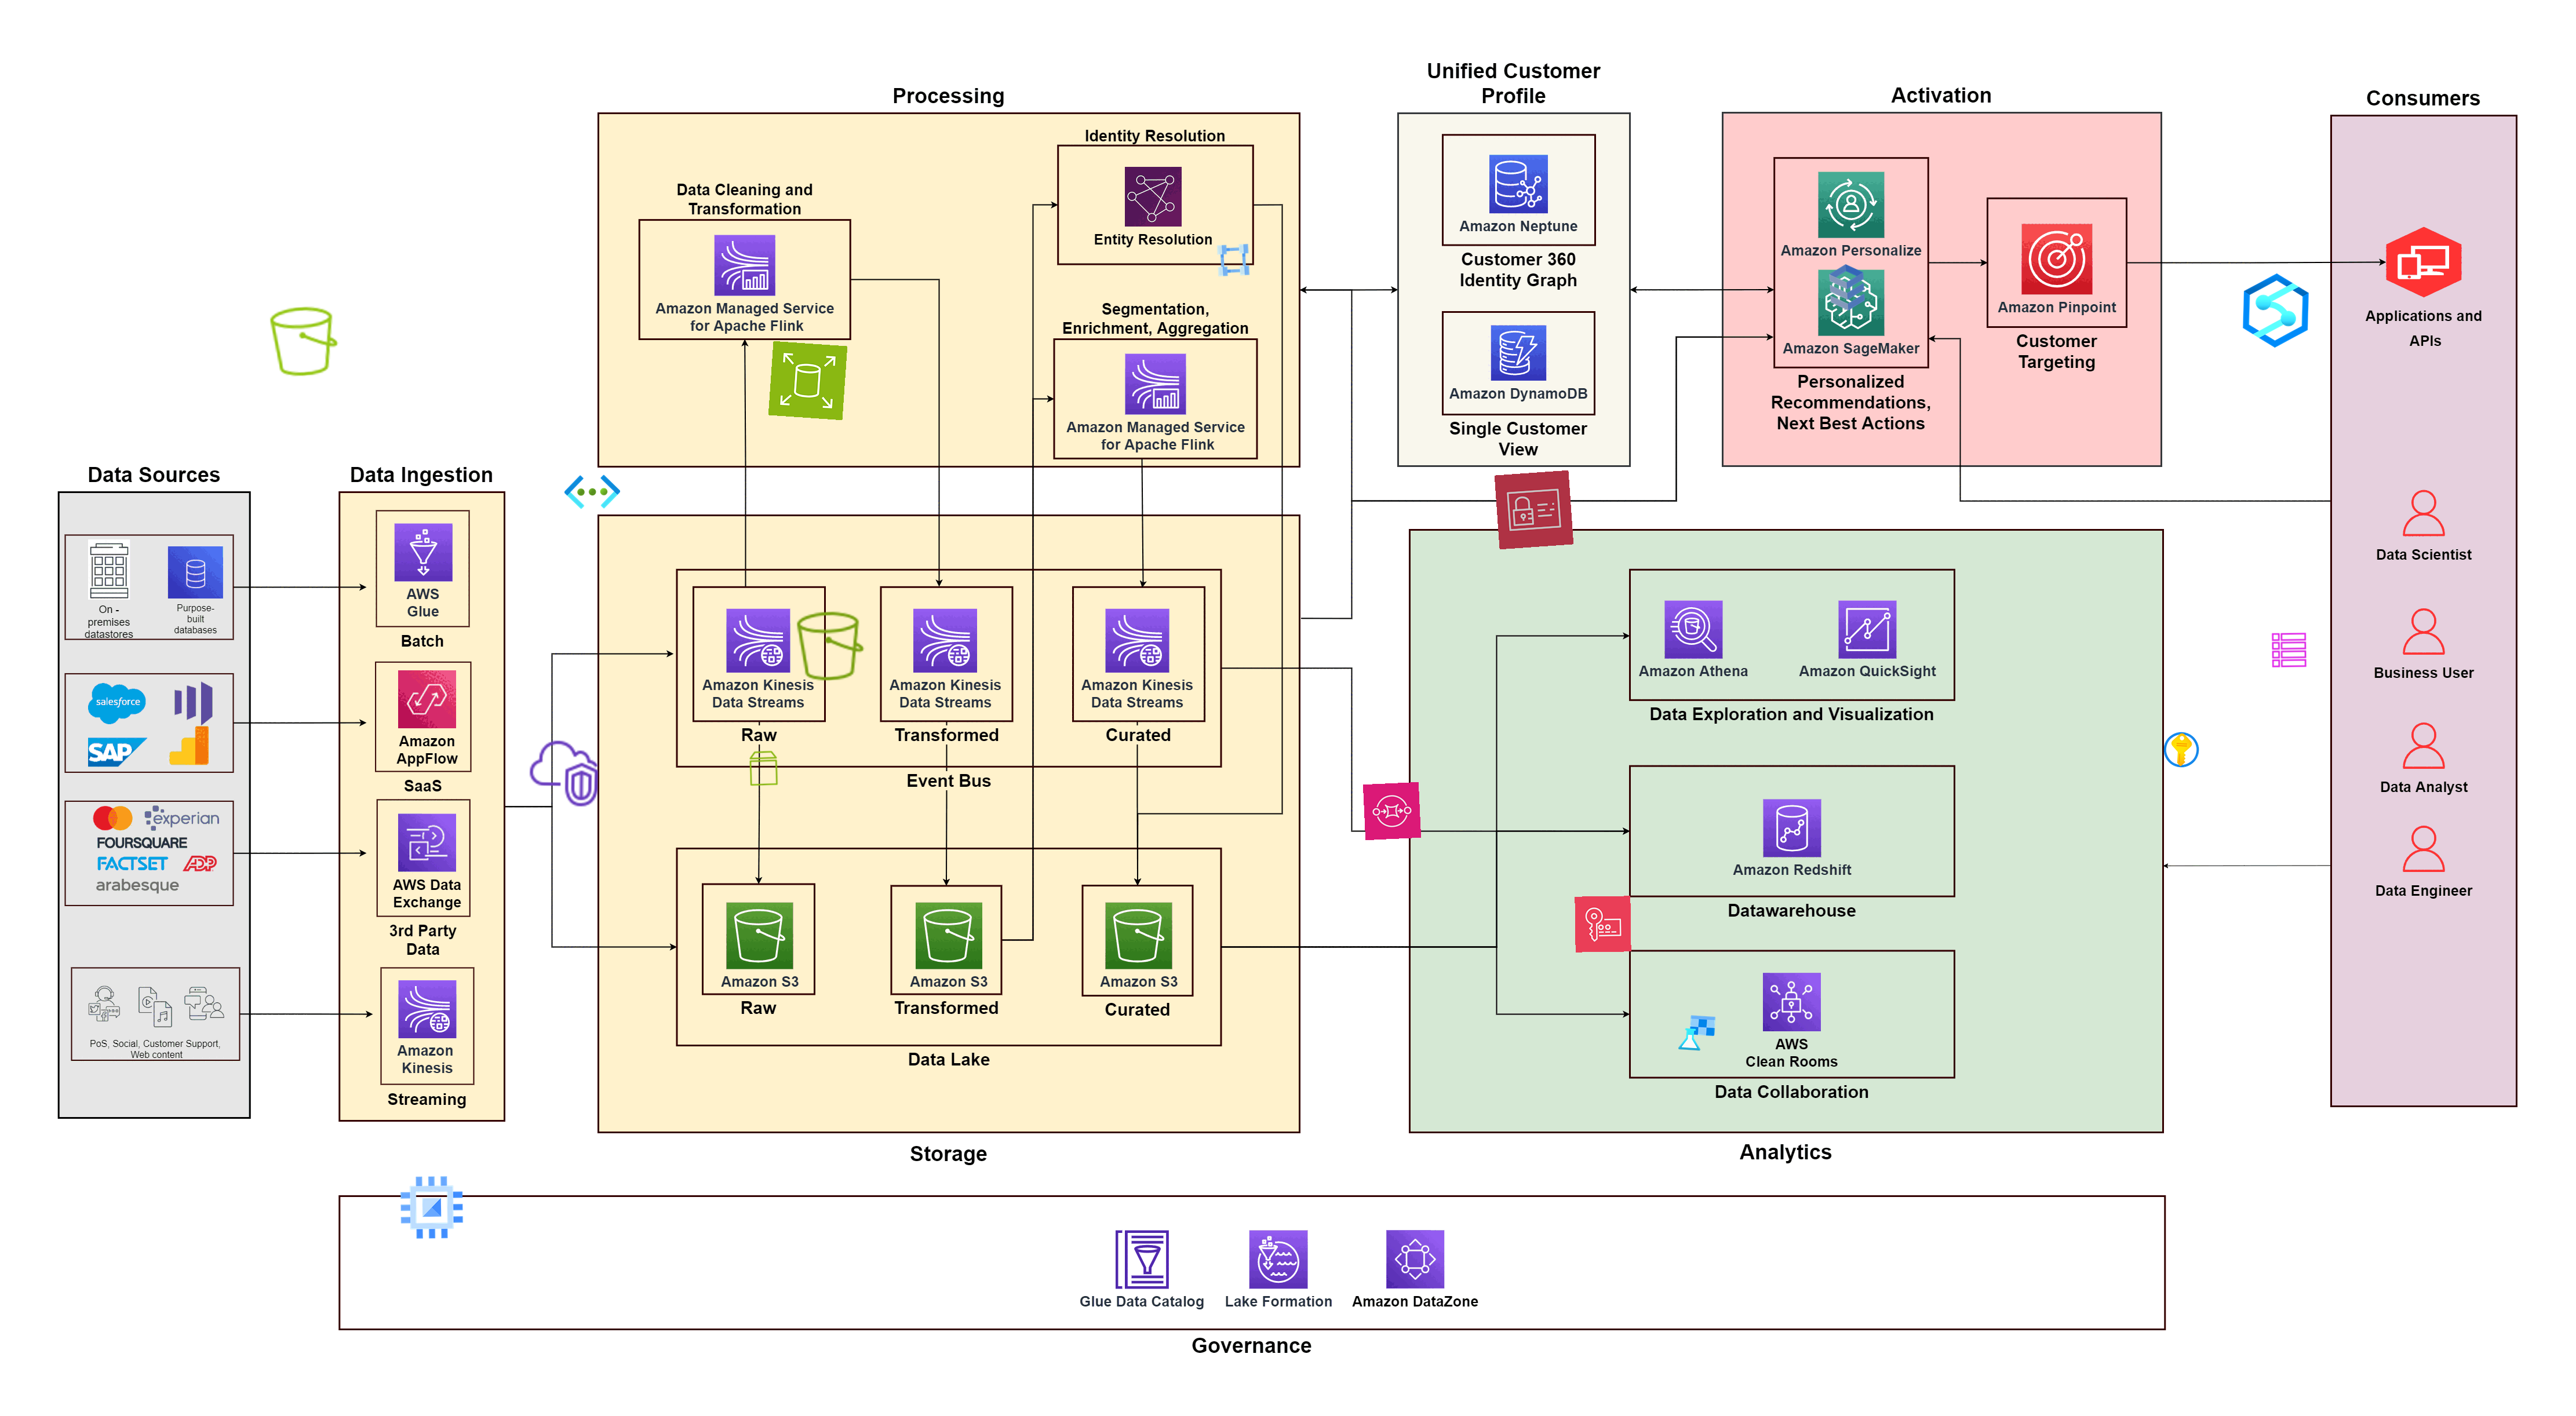aws_amazon_elastic_block_store: (767, 340, 848, 420)
aws_amazon_simple_queue_service: (1362, 781, 1421, 841)
aws_dynamodb_table: (2271, 631, 2307, 670)
aws_elastic_block_store_volume: (745, 750, 783, 788)
aws_identity_and_access_management: (1495, 469, 1573, 549)
aws_key_management_service: (1575, 896, 1631, 952)
aws_simple_storage_service_bucket: (792, 607, 869, 685)
aws_simple_storage_service_s3_standard: (265, 302, 344, 380)
aws_vpc_virtual_private_cloud_vpc: (525, 736, 602, 811)
azure_key_vaults: (2161, 731, 2201, 769)
azure_machine_learning_studio_workspaces: (1678, 1013, 1716, 1053)
azure_synapse_analytics: (2238, 272, 2314, 349)
azure_virtual_networks: (563, 464, 621, 520)
gcp_cloud_sql: (1817, 258, 1877, 317)
gcp_compute_engine: (394, 1170, 469, 1245)
gcp_virtual_private_cloud: (1214, 241, 1252, 279)
